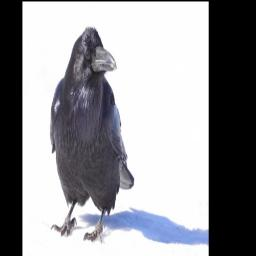Crow: (47, 21, 139, 247)
